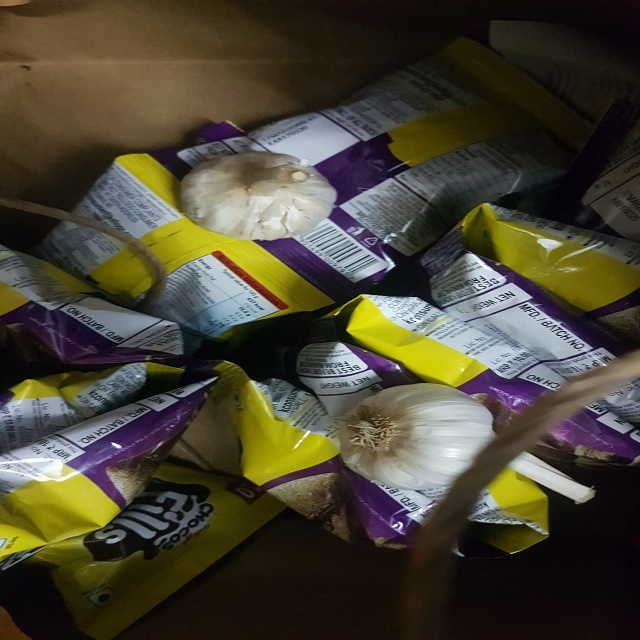garlic: (174, 135, 348, 242), (337, 375, 495, 490)
